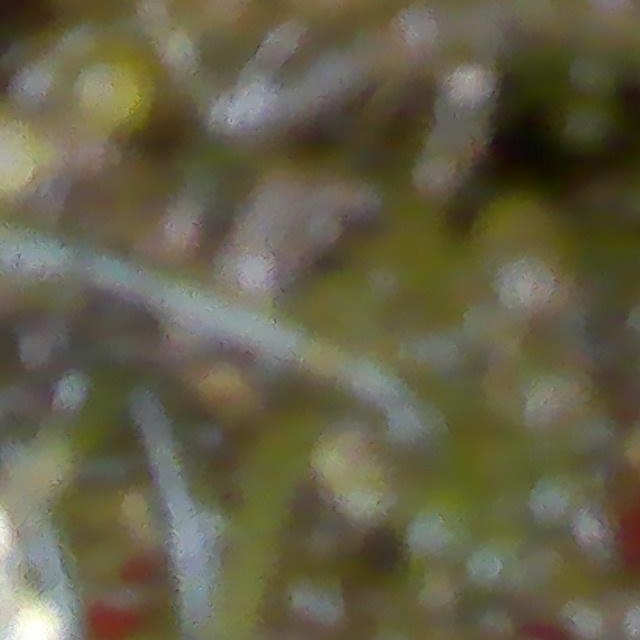SeaGrape: (402, 478, 486, 565), (552, 92, 622, 159)
